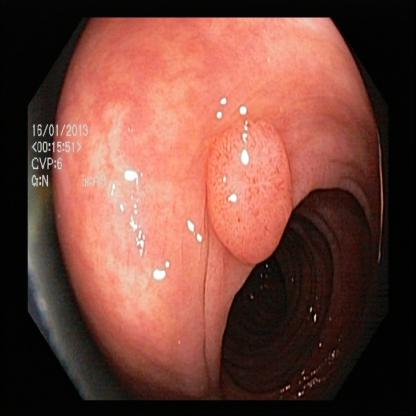Labels: (30, 119, 107, 190)
Polyps: (205, 115, 288, 261)
